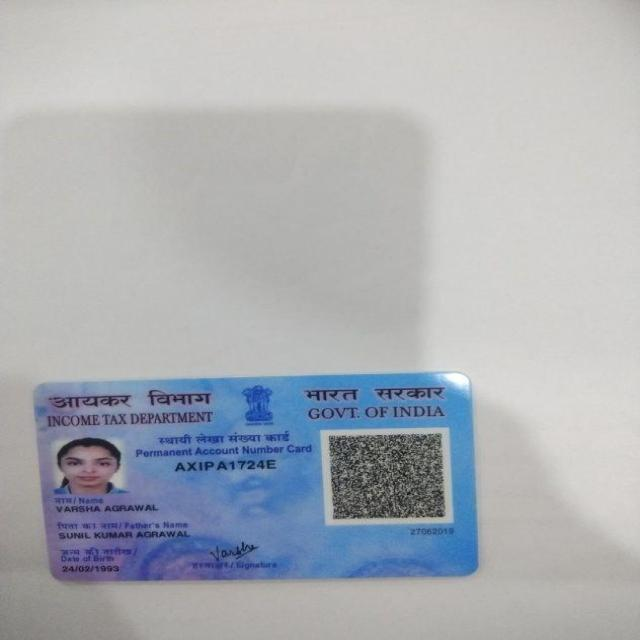pan_card: (28, 371, 482, 586)
